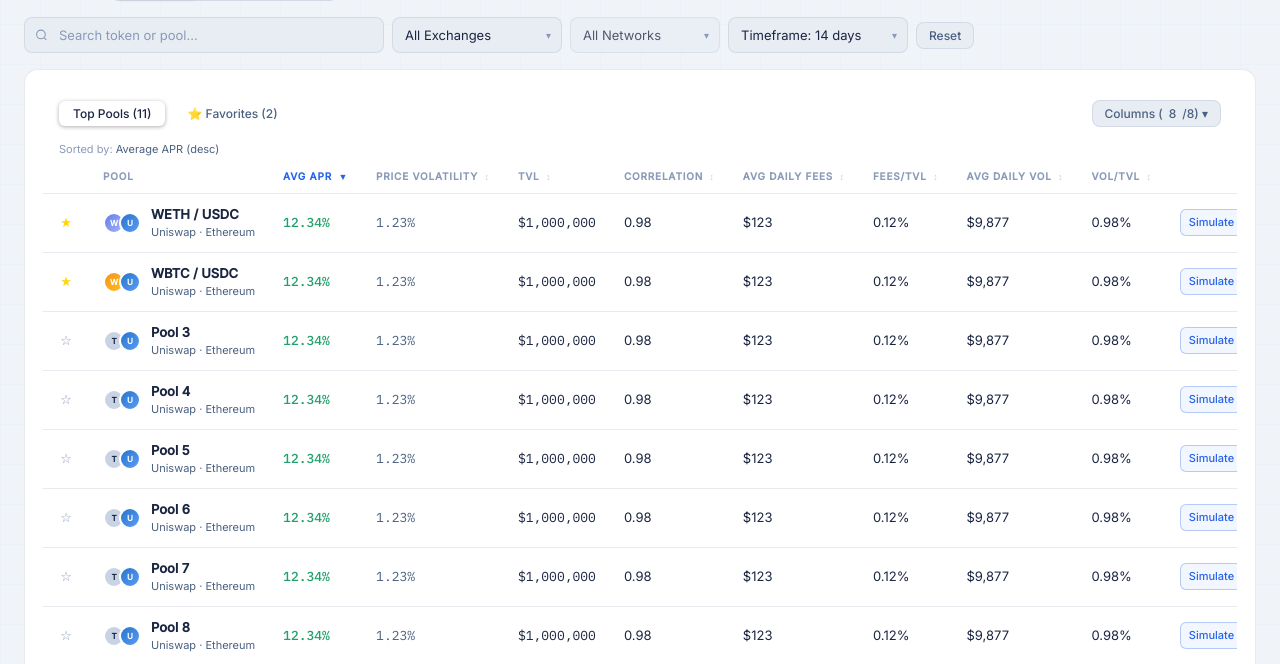
DiscoverPage favorites integration › switches between top pools and favorites and keeps pagination working
Expected: the text "WETH / USDC" is shown, [151, 206, 239, 222]
Select "30 days" in the 3rd dropdown showing "Timeframe: 14 days": (818, 35) [728, 17, 908, 53]
(page scrolled)
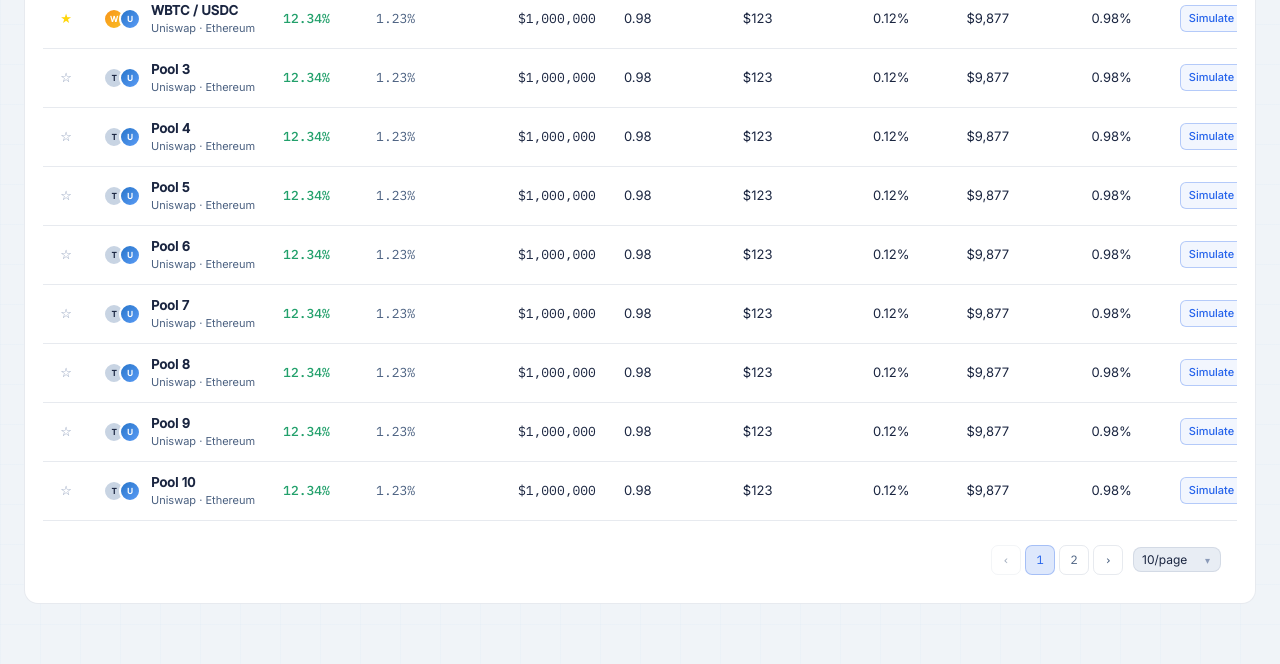
Click the button "2": (1074, 560) [1059, 544, 1089, 574]
(page scrolled)
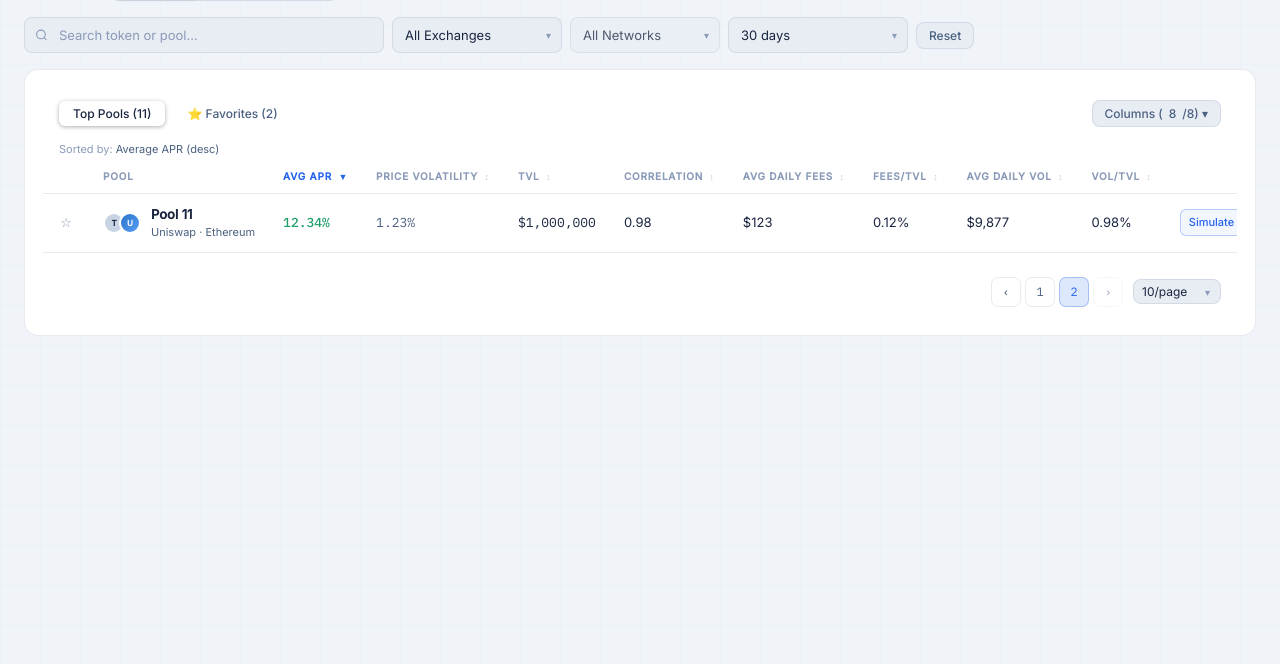
Expected: the text "Pool 11" is shown, [151, 206, 192, 222]
Click the button "⭐ Favorites (2)": (232, 114) [173, 101, 292, 126]
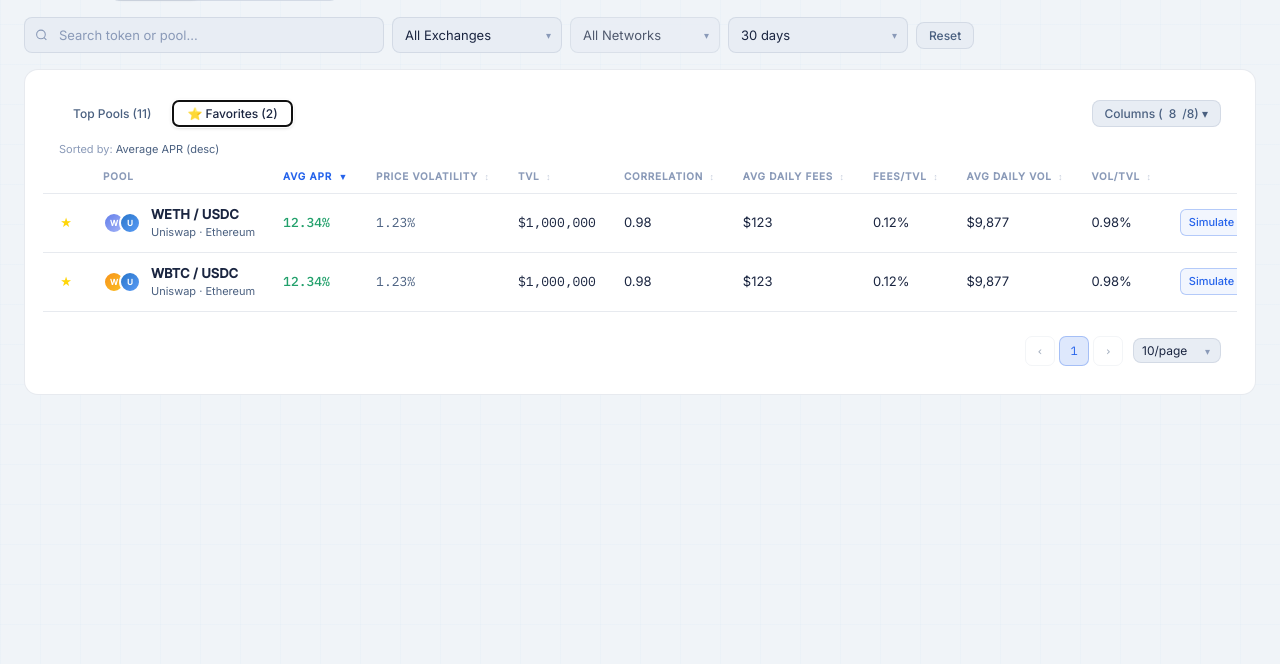
Expected: the text "WETH / USDC" is shown, [151, 206, 239, 222]
